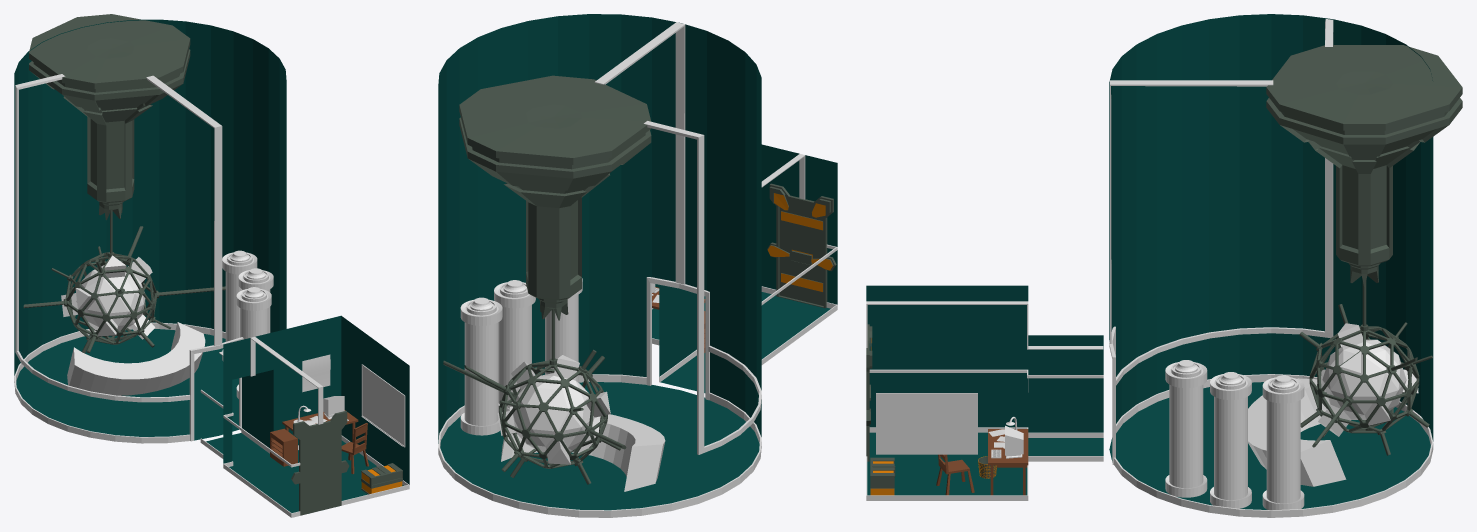
File: Demo_Room-001.glb
The picture shows the model from 3 angles, left to right: view 1: azimuth 30°, elevation 25°; view 2: azimuth 150°, elevation 25°; view 3: azimuth 270°, elevation 25°; orthographic projection. The views are drawn at different scales.
Visible parts, largest first — view 1: Cylinder.003, Icosphere.001, Cube, Cylinder.005, Cube.018, Icosphere, Cylinder.006, Cube.022, Cylinder.007, Cylinder.009, Cylinder.008, Cylinder.011 (+8 smaller); view 2: Cylinder.003, Icosphere.001, Cube, Cube.018, Icosphere, Cylinder.008, Cylinder.009, Cylinder.007, Cylinder.005, Cylinder.006, Cylinder.010, Cylinder.011 (+3 smaller); view 3: Cylinder.003, Cube, Icosphere.001, Cube.022, Cylinder.011, Cylinder.008, Icosphere, Cylinder.010, Cylinder.009, Cylinder.005, Cylinder.007, Cube.021 (+7 smaller).
Part boxes in pixels (x1=…): Cylinder.003: x1=14, y1=19, x2=286, y2=440; Icosphere.001: x1=23, y1=14, x2=225, y2=353; Cube: x1=206, y1=315, x2=409, y2=512; Cylinder.005: x1=67, y1=322, x2=205, y2=395; Cube.018: x1=291, y1=411, x2=349, y2=515; Icosphere: x1=61, y1=255, x2=155, y2=339; Cylinder.006: x1=146, y1=75, x2=222, y2=345; Cube.022: x1=361, y1=364, x2=405, y2=447; Cylinder.007: x1=15, y1=74, x2=190, y2=402; Cylinder.009: x1=14, y1=322, x2=225, y2=443; Cylinder.008: x1=222, y1=250, x2=257, y2=361; Cylinder.011: x1=236, y1=287, x2=271, y2=398; Cylinder.003: x1=438, y1=14, x2=761, y2=510; Icosphere.001: x1=443, y1=75, x2=651, y2=484; Cube: x1=652, y1=144, x2=837, y2=392; Cube.018: x1=767, y1=183, x2=836, y2=308; Icosphere: x1=497, y1=355, x2=610, y2=464; Cylinder.008: x1=460, y1=297, x2=502, y2=435; Cylinder.009: x1=438, y1=374, x2=761, y2=517; Cylinder.007: x1=643, y1=121, x2=761, y2=454; Cylinder.005: x1=501, y1=406, x2=665, y2=491; Cylinder.006: x1=594, y1=22, x2=685, y2=284; Cylinder.010: x1=494, y1=280, x2=535, y2=412; Cylinder.011: x1=545, y1=278, x2=582, y2=382; Cylinder.003: x1=1109, y1=14, x2=1433, y2=509; Cube: x1=866, y1=285, x2=1103, y2=495; Icosphere.001: x1=1266, y1=45, x2=1462, y2=455; Cube.022: x1=876, y1=393, x2=977, y2=454; Cylinder.011: x1=1165, y1=360, x2=1207, y2=497; Cylinder.008: x1=1262, y1=375, x2=1304, y2=510; Icosphere: x1=1318, y1=323, x2=1418, y2=436; Cylinder.010: x1=1210, y1=372, x2=1251, y2=508; Cylinder.009: x1=1114, y1=374, x2=1433, y2=517; Cylinder.005: x1=1248, y1=378, x2=1346, y2=486; Cylinder.007: x1=1116, y1=19, x2=1333, y2=385; Cube.021: x1=866, y1=427, x2=1103, y2=500.
Size of the model in its own units: 8 by 10.01 by 14.72.
